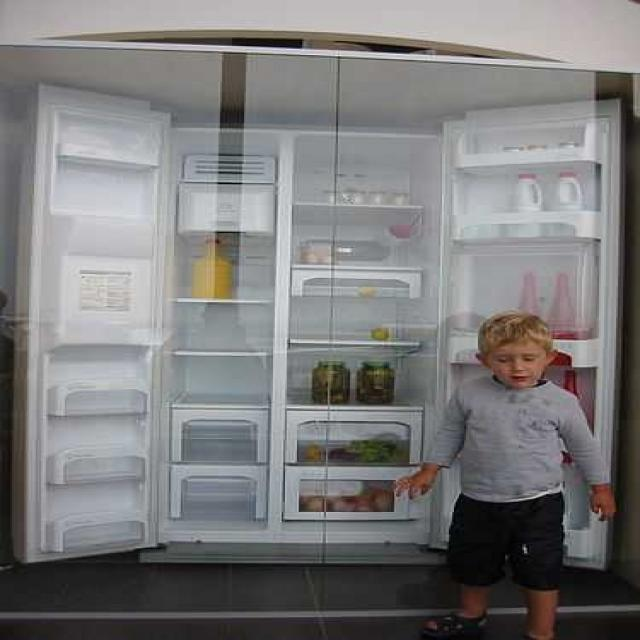refrigerator: (42, 103, 608, 558)
